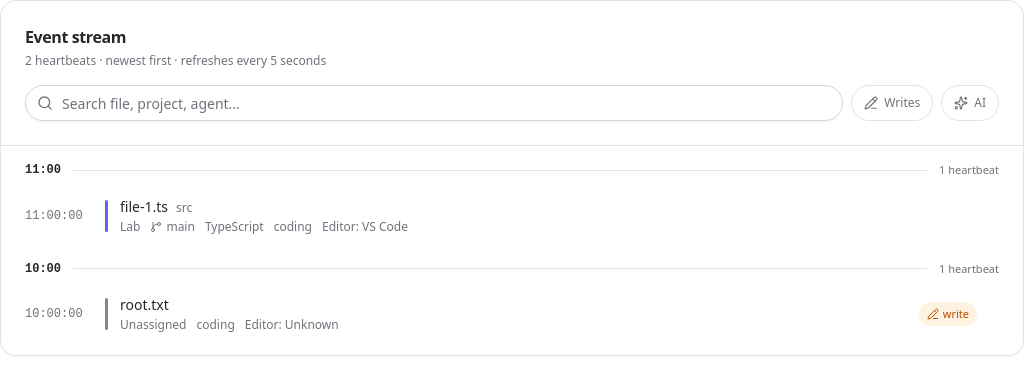
Scenario: shows an empty result and handles metadata-free rows in separate hours
This screenshot has width=1024, height=373.
Expected: the text "1 heartbeat" is shown 2 times, [939, 162, 999, 178]; [939, 260, 999, 277]
Step 1. Type "missing" into the search field → (434, 103), box [25, 85, 843, 121]
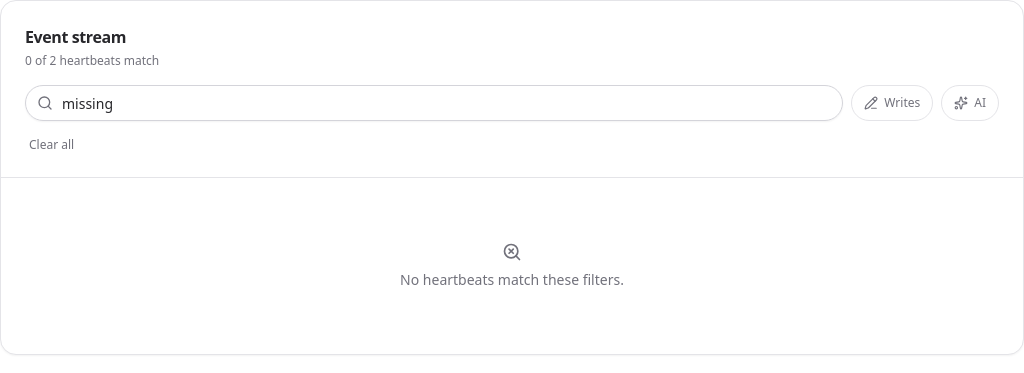
Result: the text "No heartbeats match these filters." is shown at [400, 242, 624, 289]
